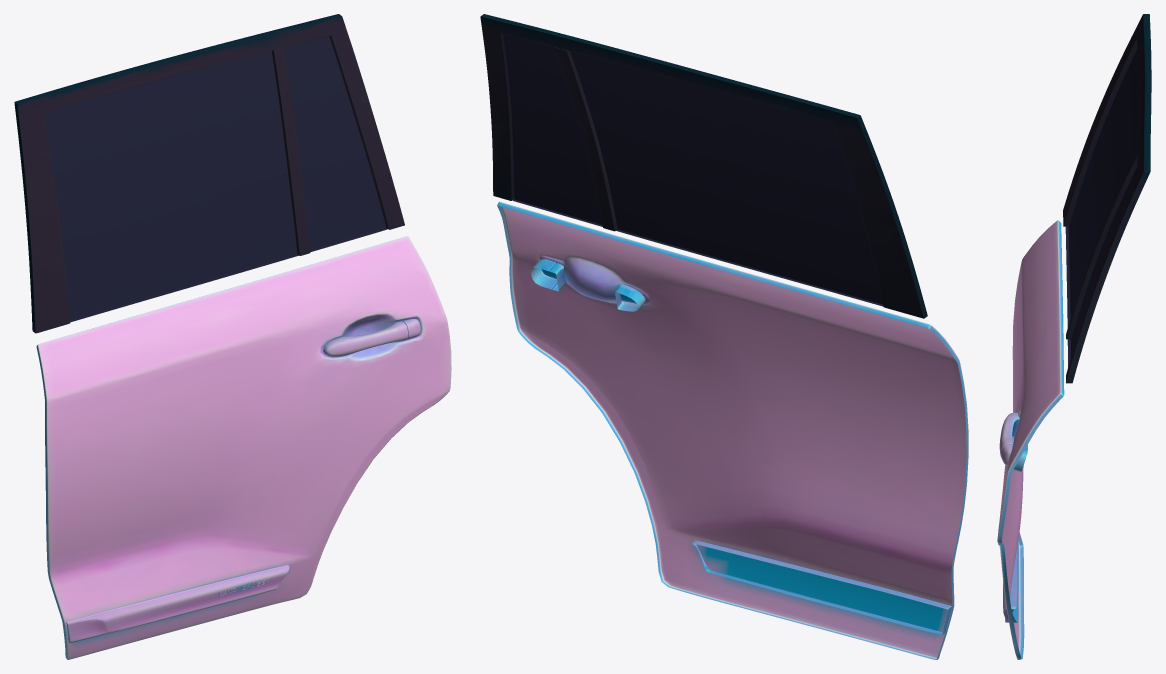
Rendered from door_RL.glb.
The picture shows the model from 3 angles, left to right: view 1: azimuth 30°, elevation 25°; view 2: azimuth 150°, elevation 25°; view 3: azimuth 270°, elevation 25°; orthographic projection. The views are drawn at different scales.
Parts seen in each view (by area): view 1: carpaint_6, windowglass_39, black_10, chrome_3; view 2: carpaint_6, windowglass_39, black_10, chrome_3; view 3: carpaint_6, windowglass_39, black_10, chrome_3.
Part boxes in pixels (<box>): carpaint_6: <box>36,236,451,659</box>; windowglass_39: <box>44,36,387,322</box>; black_10: <box>14,14,404,333</box>; chrome_3: <box>66,319,420,643</box>; carpaint_6: <box>497,201,968,659</box>; windowglass_39: <box>501,33,883,306</box>; black_10: <box>480,14,927,318</box>; chrome_3: <box>531,259,951,635</box>; carpaint_6: <box>997,220,1064,659</box>; windowglass_39: <box>1065,44,1137,367</box>; black_10: <box>1063,14,1151,383</box>; chrome_3: <box>999,412,1027,622</box>.
Bounding box in the file's own units: 1.06 × 1.32 × 0.3374.
